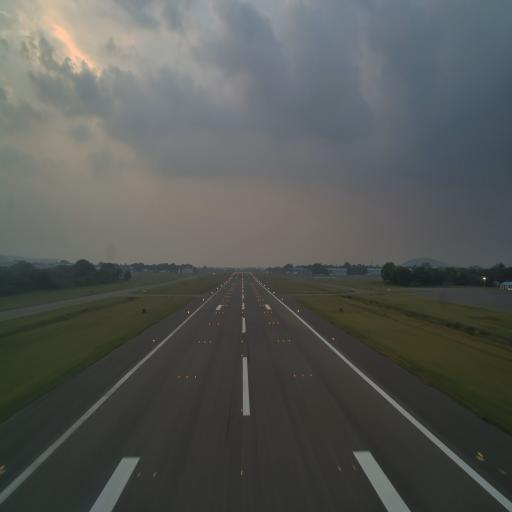off: (240, 372, 244, 381)
on: (474, 447, 485, 464), (0, 459, 8, 476), (336, 460, 343, 477), (151, 466, 159, 480), (239, 466, 246, 479), (136, 465, 142, 479), (239, 404, 245, 416), (350, 462, 357, 472), (301, 372, 306, 380), (176, 374, 181, 381), (309, 372, 313, 380), (186, 372, 189, 381), (194, 372, 197, 380), (293, 373, 297, 379), (241, 352, 243, 358)
